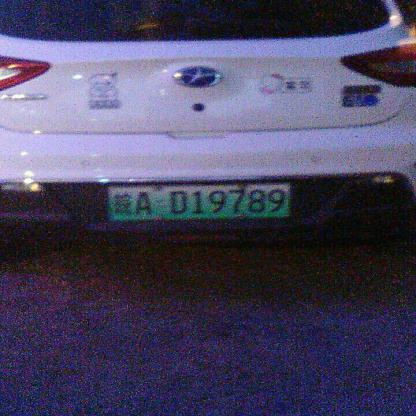lp: (109, 183, 289, 220)
